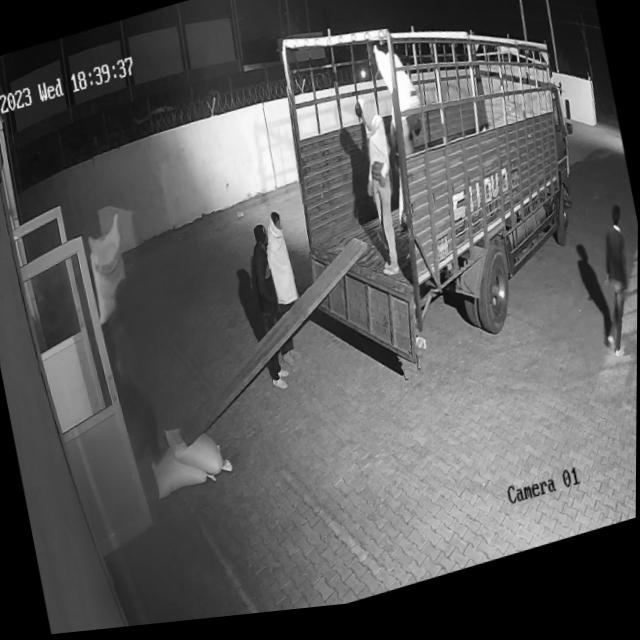sack: (81, 216, 139, 329), (163, 417, 227, 492), (371, 42, 421, 126), (151, 442, 214, 502)
